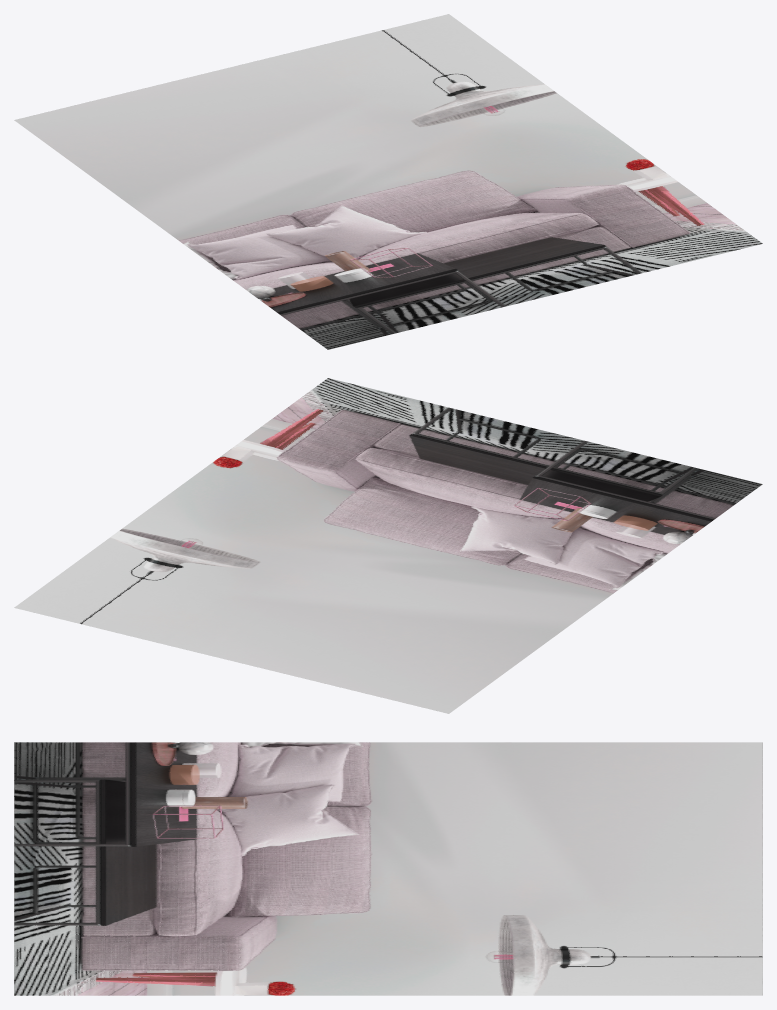
Rendered from avenue51pg22.glb.
The picture shows the model from 3 angles, top to bottom: view 1: azimuth 30°, elevation 25°; view 2: azimuth 150°, elevation 25°; view 3: azimuth 270°, elevation 25°; orthographic projection. The views are drawn at different scales.
Visible parts, largest first — view 1: Plane; view 2: Plane; view 3: Plane.
Boxes of the visible parts, x1,y1,x2,y2 form: Plane: (14,14,762,349); Plane: (14,378,762,713); Plane: (14,742,762,995).
Bounding box in the file's own units: 0.4 × 0 × 0.5.
Materials: 1 (1 with a texture image).
